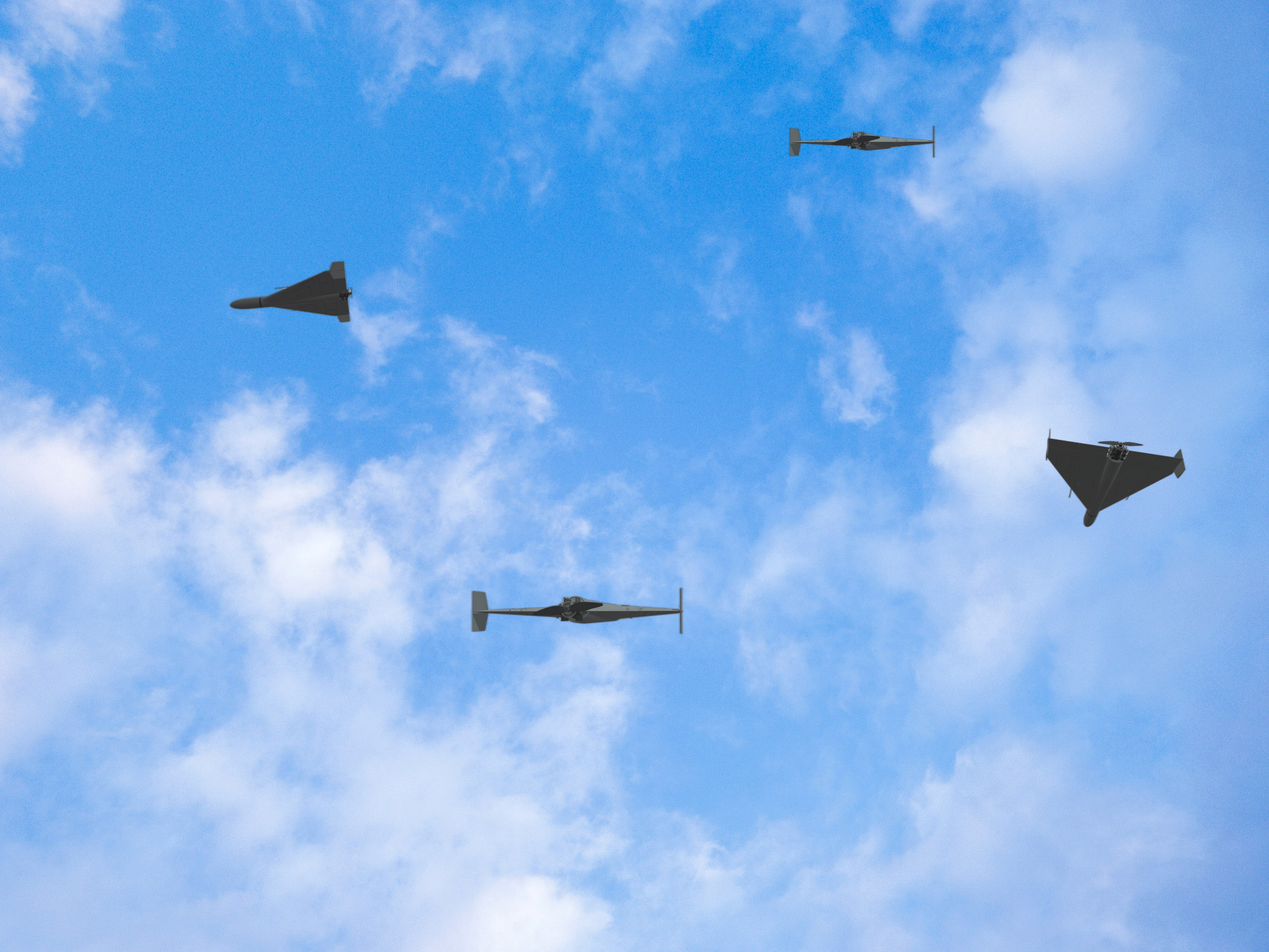shahed: (1043, 427, 1187, 529), (468, 585, 686, 637), (228, 258, 354, 325), (786, 122, 938, 160)
